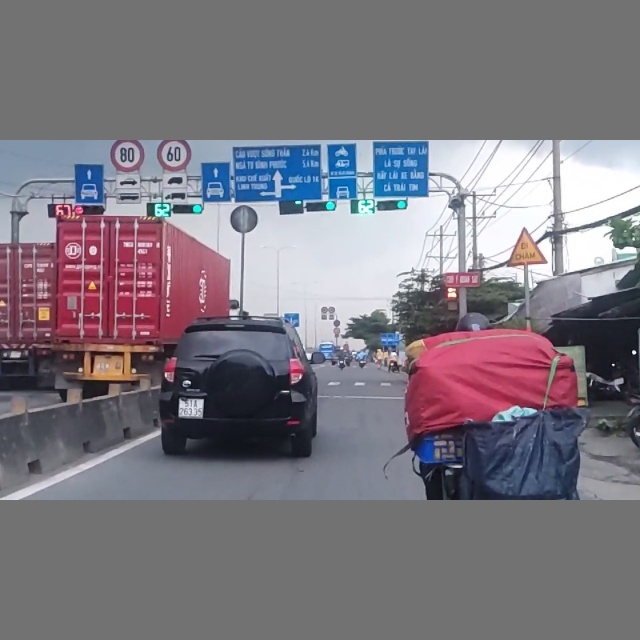P.127*60: (157, 141, 191, 171)
P.127*80: (110, 141, 145, 173)
W.245a: (507, 227, 548, 267)
